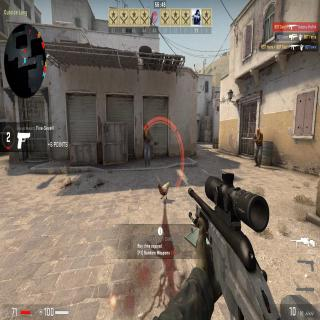T-Body: (252, 127, 264, 168), (143, 122, 152, 166)
T-Head: (256, 127, 260, 134), (146, 124, 148, 130)
